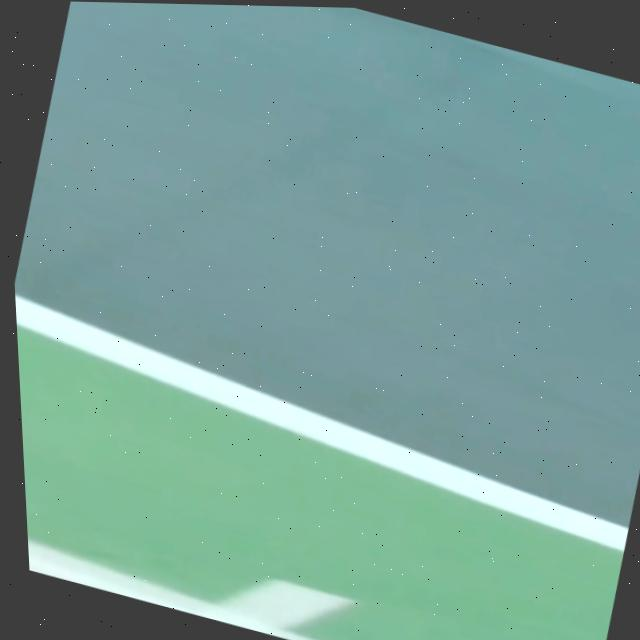right: (15, 292, 628, 550)
